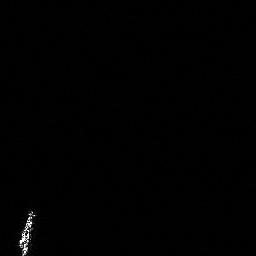ship: (14, 206, 39, 256)
